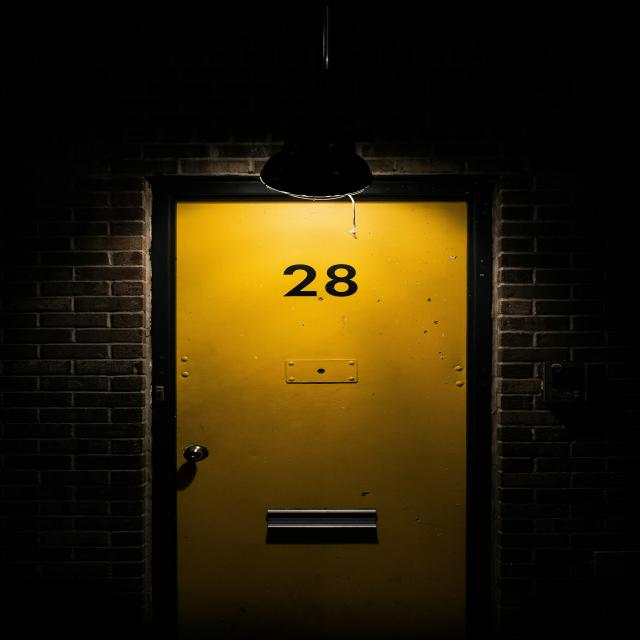door-knob: (184, 445, 208, 462)
